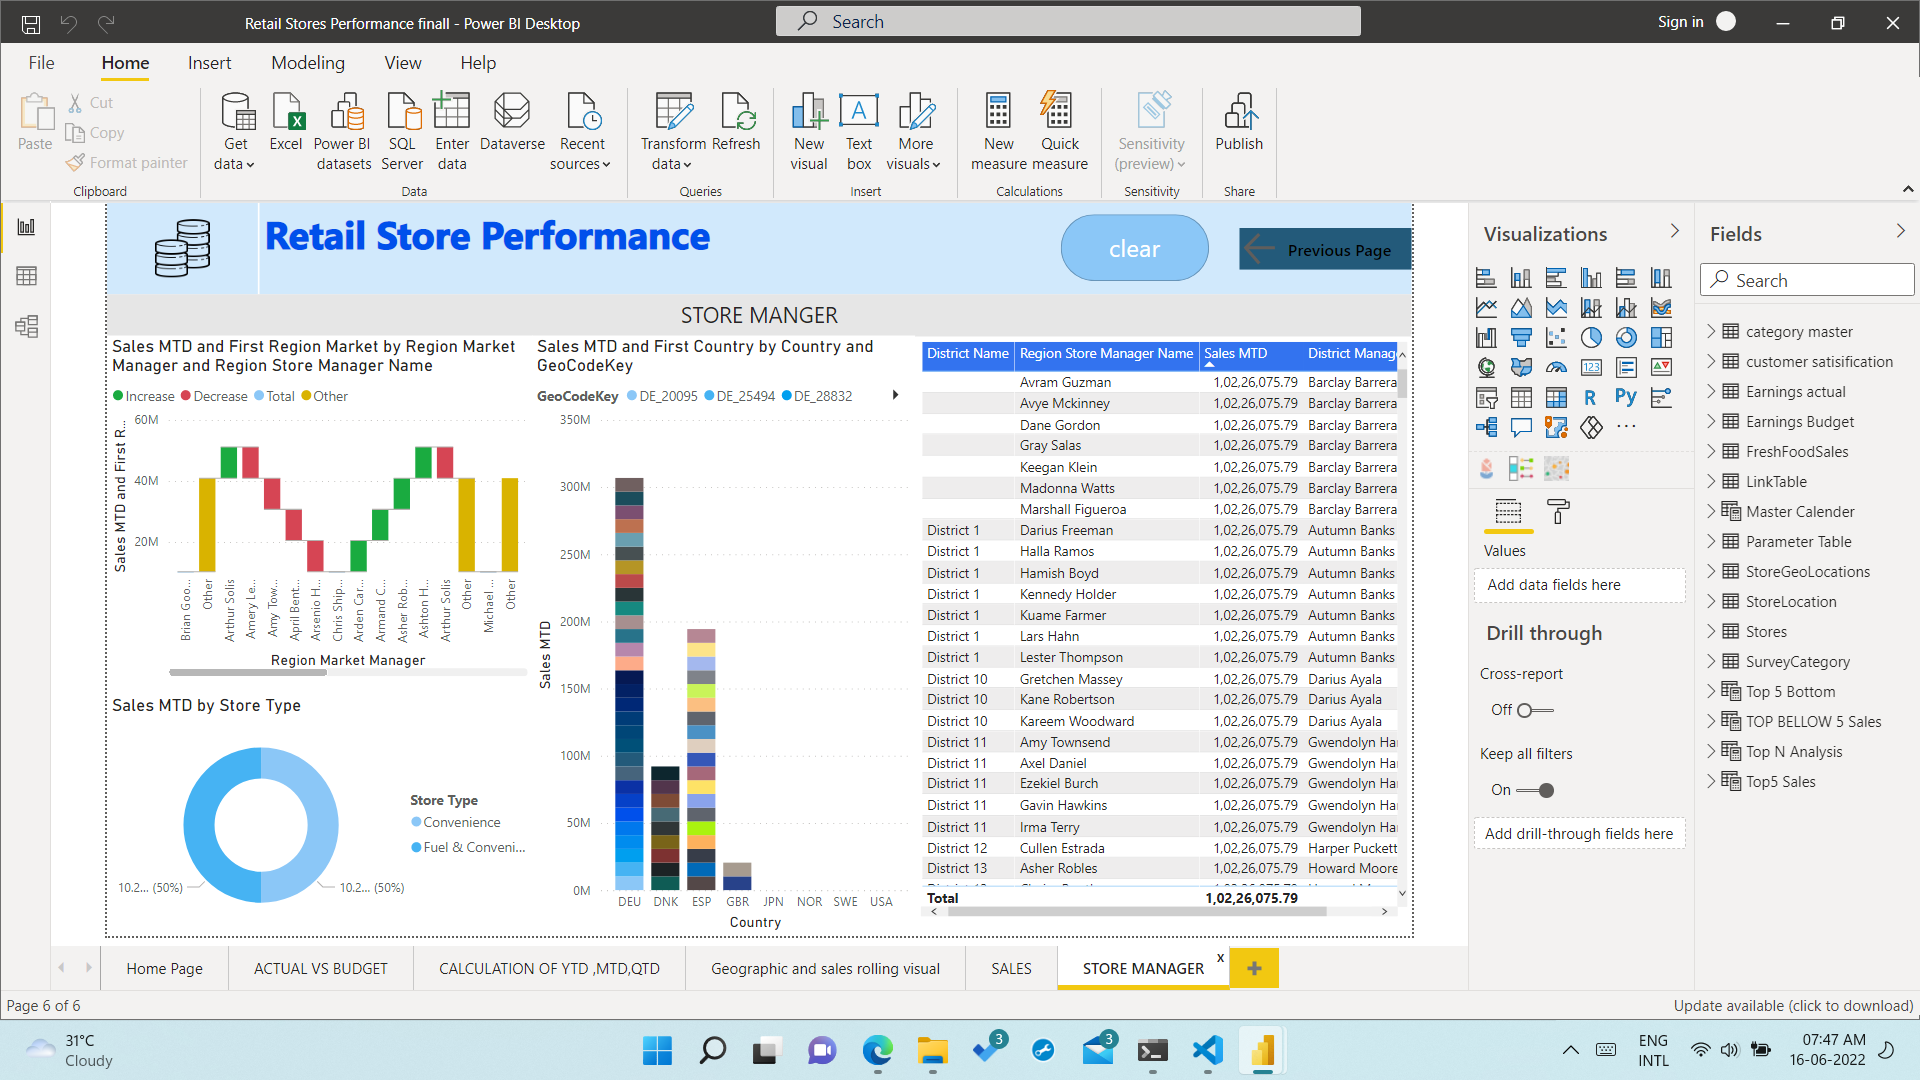

This screenshot's page, from the dashboard's own definition file:
{"tool":"powerbi","page":{"name":"STORE MANAGER","canvas":[1280,720],"ordinal":5},"visuals":[{"type":"image","box":[0,0,148.3,89.3],"z":0},{"type":"textbox","box":[150,554,300,166],"z":1000},{"type":"textbox","box":[0,244,150,300],"z":2000},{"type":"textbox","box":[149.7,0,1130.3,89.3],"z":3000},{"type":"textbox","box":[0,89.3,1280,41.2],"z":4000},{"type":"waterfallChart","fields":{"Category":["Stores.Region Market Manager"],"Y":["FreshFoodSales.Sales MTD"],"Breakdown":["Stores.Region Store Manager Name"]},"box":[0,130.5,417.5,339.2],"z":5000},{"type":"columnChart","fields":{"Y":["FreshFoodSales.Sales MTD"],"Category":["StoreLocation.Country"],"Series":["StoreLocation.GeoCodeKey"]},"box":[417.5,130.5,376.3,589.2],"z":6000},{"type":"tableEx","fields":{"Values":["Stores.District Name","Stores.Region Store Manager Name","FreshFoodSales.Sales MTD","Stores.District Manager Name"]},"box":[793.3,130.8,487.2,573.4],"z":7000},{"type":"donutChart","fields":{"Y":["FreshFoodSales.Sales MTD"],"Category":["Stores.Store Type"]},"box":[0,482.1,428.5,237.6],"z":8000},{"type":"actionButton","box":[1111.4,24.3,169,40.6],"z":9000},{"type":"shape","box":[935.5,11.2,145.3,65.5],"z":10000}]}

Visuals, with their boxes on the page's 1280x720 design canvas (x1, y1, x2, y2). These are canvas units, not pixel positions in the 1920x1080 screenshot, which may show the page scaled, cropped or inside an application window:
image: x1=0, y1=0, x2=148, y2=89
textbox: x1=150, y1=554, x2=450, y2=720
textbox: x1=0, y1=244, x2=150, y2=544
textbox: x1=150, y1=0, x2=1280, y2=89
textbox: x1=0, y1=89, x2=1280, y2=130
waterfallChart - Stores.Region Market Manager x FreshFoodSales.Sales MTD: x1=0, y1=130, x2=418, y2=470
columnChart - FreshFoodSales.Sales MTD x StoreLocation.Country: x1=418, y1=130, x2=794, y2=720
tableEx - Stores.District Name x Stores.Region Store Manager Name: x1=793, y1=131, x2=1280, y2=704
donutChart - FreshFoodSales.Sales MTD x Stores.Store Type: x1=0, y1=482, x2=428, y2=720
actionButton: x1=1111, y1=24, x2=1280, y2=65
shape: x1=936, y1=11, x2=1081, y2=77
